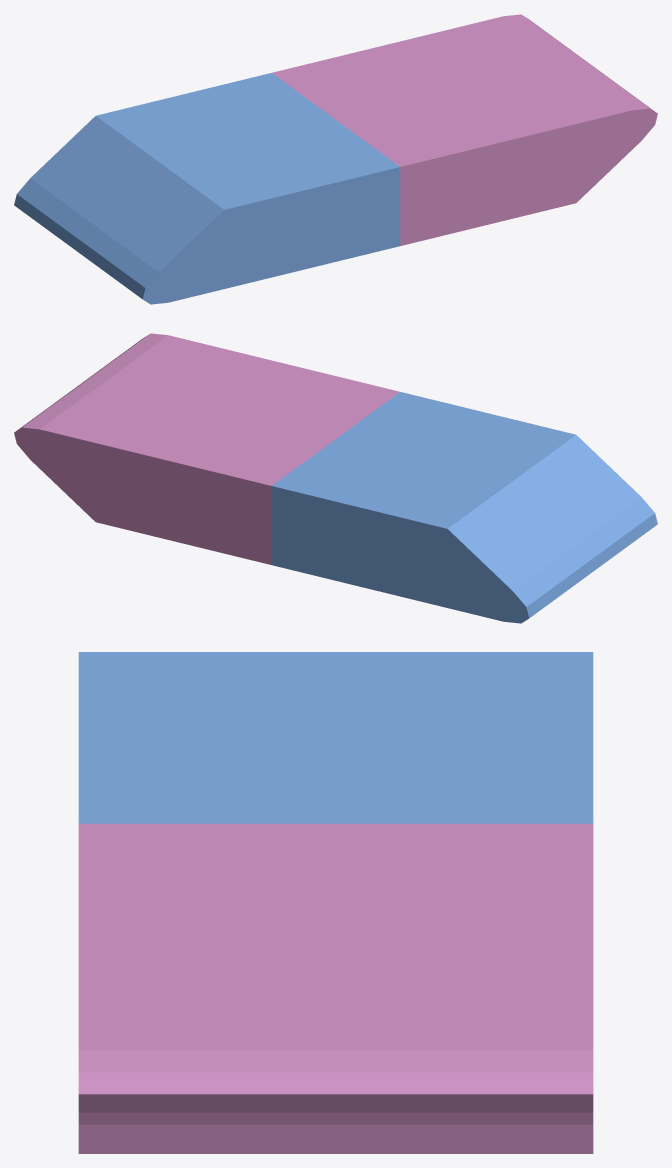
File: Eraser.fbx
3 renders of one model, top to bottom at view 1: azimuth 30°, elevation 25°; view 2: azimuth 150°, elevation 25°; view 3: azimuth 270°, elevation 25°, orthographic. The views are drawn at different scales.
Parts seen in each view (by area): view 1: Eraser; view 2: Eraser; view 3: Eraser.
Part boxes in pixels (box(x1,y1,x2,y2)): Eraser: box(14, 14, 657, 304); Eraser: box(14, 333, 657, 623); Eraser: box(78, 652, 593, 1153).
Bounding box in the file's own units: 462 × 67.9 × 200.
